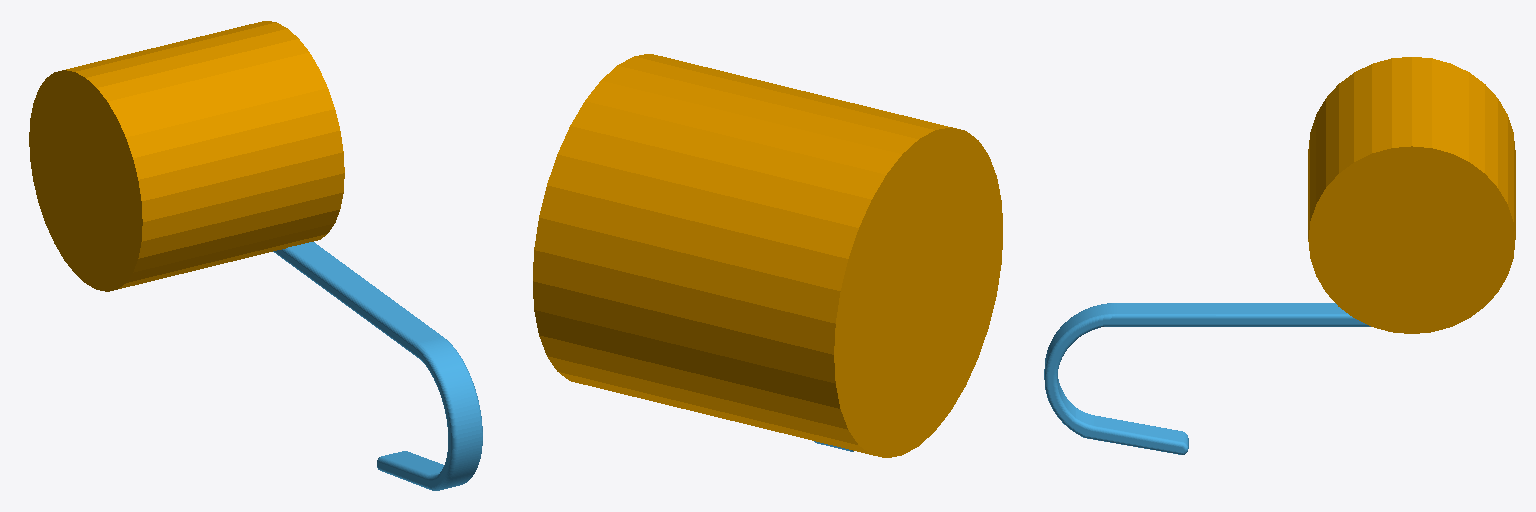
robot.urdf — hook_test:
<?xml version="1.0" ?>
<robot name="hook_test">
    <link name = 'base_link'/>
    <joint name='baselink2eebase' type='fixed'>
        <origin rpy="0 0 0" xyz="0 0 0.5"/>
        <parent link="base_link"/>
        <child link="ee_base"/>
    </joint>
    <link name="ee_base"/>
    <joint name="ee_x" type="prismatic">
        <origin rpy="0 0 0" xyz="0 0 0"/>
        <parent link="ee_base"/>
        <child link="ee_x_link"/>
        <axis xyz="1 0 0"/>
        <limit effort="500.0" lower="-1" upper="1" velocity="0.1"/>
    </joint>
    <link name = 'ee_x_link'/>
    <joint name="ee_y" type="prismatic">
        <origin rpy="0 0 0" xyz="0 0 0"/>
        <parent link="ee_x_link"/>
        <child link="ee_y_link"/>
        <axis xyz="0 1 0"/>
        <limit effort="500.0" lower="-1" upper="1" velocity="0.1"/>
    </joint>
    <link name = 'ee_y_link'/>
    <joint name="ee_z" type="prismatic">
        <origin rpy="0 0 0" xyz="0 0 0"/>
        <parent link="ee_y_link"/>
        <child link="ee_z_link"/>
        <axis xyz="0 0 1"/>
        <limit effort="500.0" lower="-1" upper="1" velocity="0.1"/>
    </joint>
    <link name = 'ee_z_link'/>
    <joint name="ee_rx" type="revolute">
        <origin rpy="0 0 0" xyz="0 0 0"/>
        <parent link="ee_z_link"/>
        <child link="ee_rx_link"/>
        <axis xyz="1 0 0"/>
        <limit effort="500.0" lower="-0.1" upper="0.1" velocity="0.1"/>
    </joint>
    <link name = 'ee_rx_link'/>
    <joint name="ee_ry" type="revolute">
        <origin rpy="0 0 0" xyz="0 0 0"/>
        <parent link="ee_rx_link"/>
        <child link="ee_ry_link"/>
        <axis xyz="0 1 0"/>
        <limit effort="500.0" lower="-0.1" upper="0.1" velocity="0.1"/>
    </joint>
    <link name = 'ee_ry_link'/>
    <joint name="ee_rz" type="revolute">
        <origin rpy="0 0 0" xyz="0 0 0"/>
        <parent link="ee_ry_link"/>
        <child link="ee_rz_link"/>
        <axis xyz="0 0 1"/>
        <limit effort="500.0" lower="-0.1" upper="0.1" velocity="0.1"/>
    </joint>
    <link name="ee_rz_link"/>
    <joint name="ee2hand_joint" type="fixed">
        <origin rpy="0 1.57 0" xyz="0 0 0"/>
        <parent link="ee_rz_link"/>
        <child link="hand_base"/>
    </joint>
    <link name="hand_base">
        <visual>
            <geometry>
                <cylinder length="0.075" radius="0.0365"/>
            </geometry>
        </visual>
        <collision>
            <geometry>
                <cylinder length="0.075" radius="0.0365"/>
            </geometry>
        </collision>
    </link>
    <joint name="hand2hook" type="fixed">
        <origin rpy="1.57 0 3.14159" xyz="0.03 0 0.03"/>
        <parent link="hand_base"/>
        <child link="hook"/>
    </joint>
    <link name="hook">
        <visual>
            <geometry>
                <mesh filename="./meshes/ur3/collision/hook4door.obj">
                <!-- <resolution>10000</resolution> -->
                </mesh>
            </geometry>
        </visual>
        <collision>
            <geometry>
                <mesh filename="./meshes/ur3/collision/hook4door.obj"/>
            </geometry>
            <origin rpy="1.57 0 0" xyz="0 0 0"/>
        </collision>
    </link>
</robot>
    

--- Facts derived from the render (not from the file) ---
Views: 3 orthographic renders of the robot side by side, from view 1: azimuth 30°, elevation 25°; view 2: azimuth 150°, elevation 25°; view 3: azimuth 270°, elevation 25°.
Model hook_test with 10 links and 9 joints (3 revolute, 3 prismatic, 3 fixed), rooted at base_link, posed every joint at zero.
Links seen in each view (by area): view 1: hand_base, hook; view 2: hand_base; view 3: hand_base, hook.
Boxes of the visible links, box(x1,y1,x2,y2) form: hand_base: box(29, 21, 344, 291); hook: box(273, 242, 482, 490); hand_base: box(533, 54, 1002, 457); hand_base: box(1308, 57, 1515, 333); hook: box(1044, 303, 1370, 454).
Bounding box of the posed robot: 0.0751 × 0.166 × 0.1215 m (x, y, z).
1 mesh visuals loaded from 1 distinct referenced files (1 OBJ).